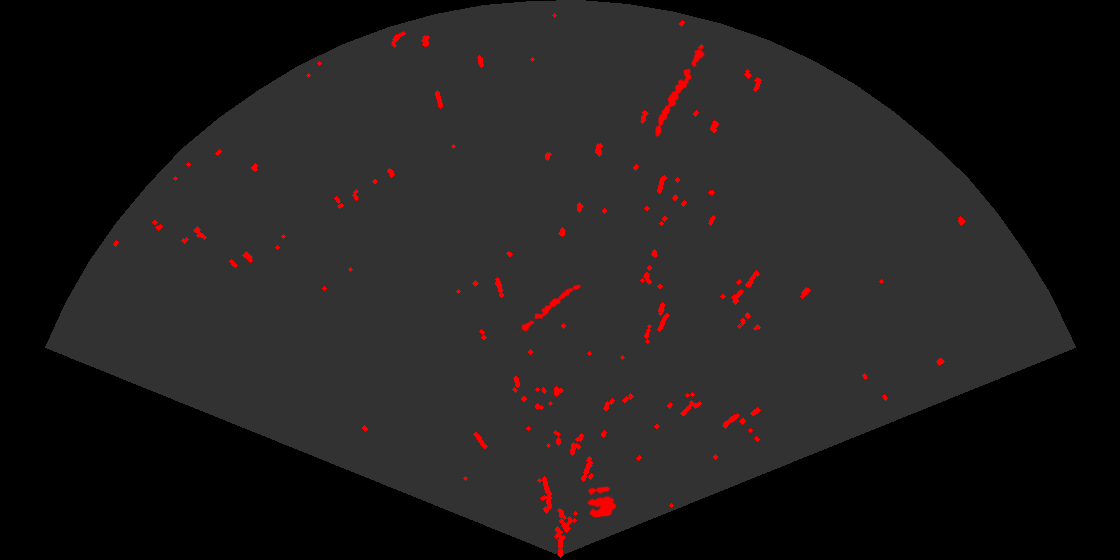ball: (585, 485, 618, 519)
chain: (654, 48, 706, 138), (512, 283, 583, 337)
